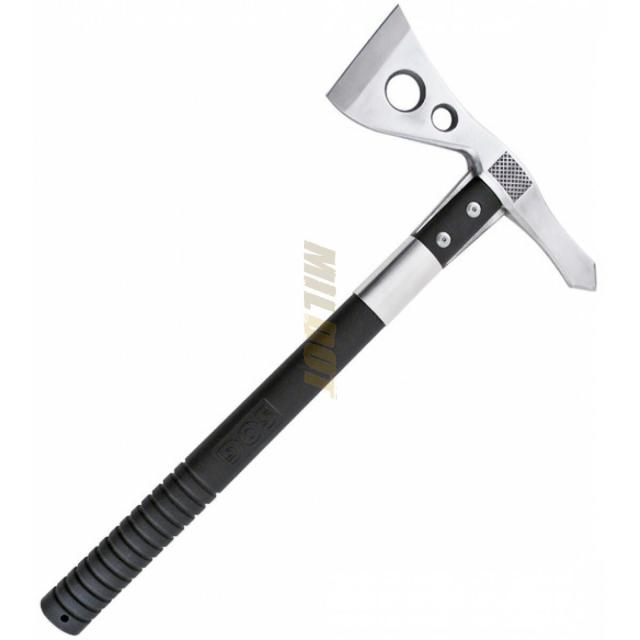Kapak: (73, 25, 631, 588)
